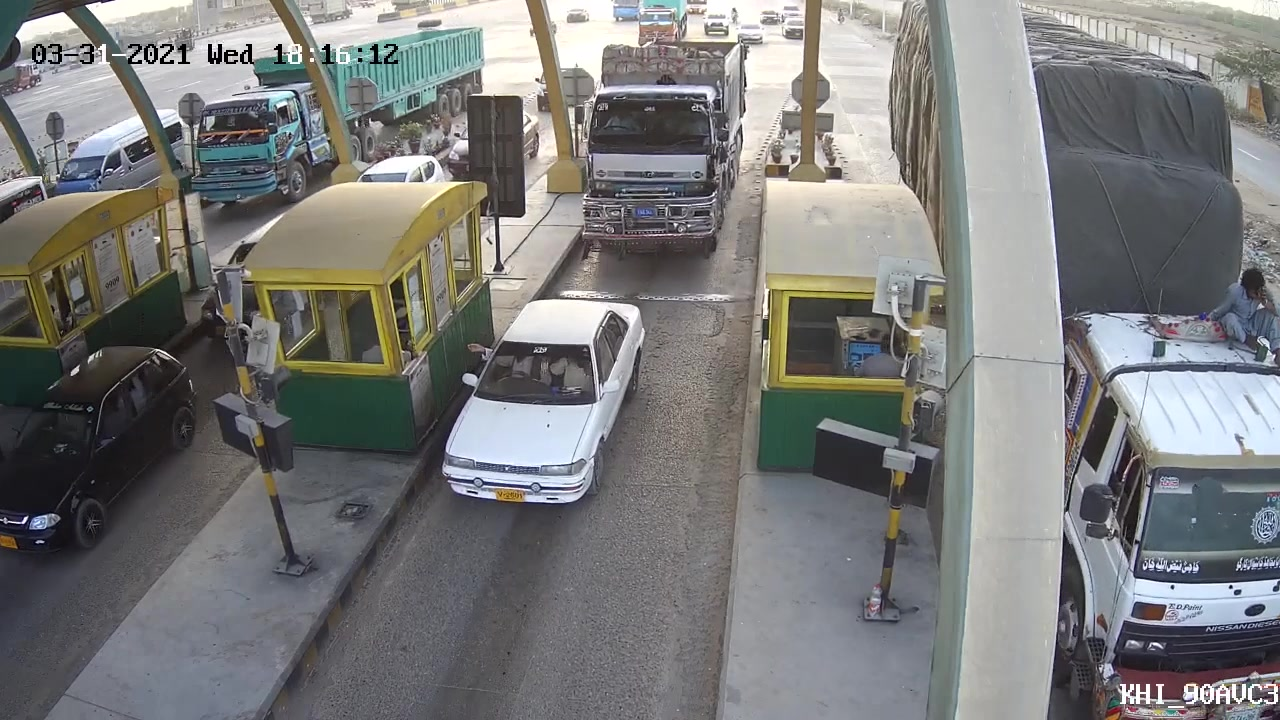F1: (437, 297, 651, 513)
F5: (578, 14, 754, 257)
